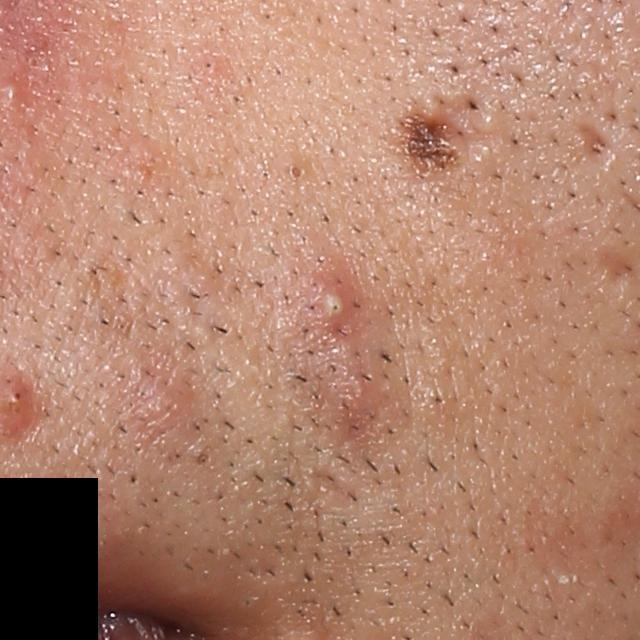atrophic_scar: (576, 125, 618, 171), (308, 467, 360, 503)
nevus: (383, 105, 471, 184)
papule: (312, 347, 388, 442), (116, 363, 194, 439)
pustule: (290, 254, 365, 346)
